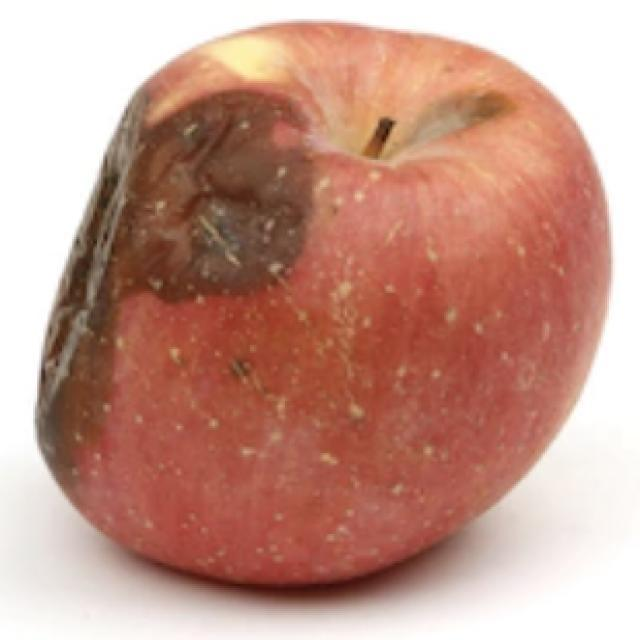Rotten: (36, 14, 614, 582)
